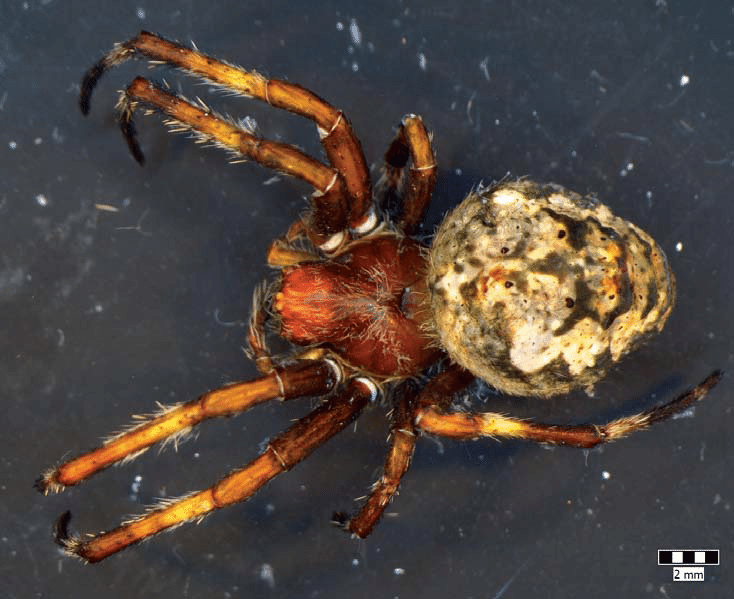spider: (20, 17, 710, 590)
